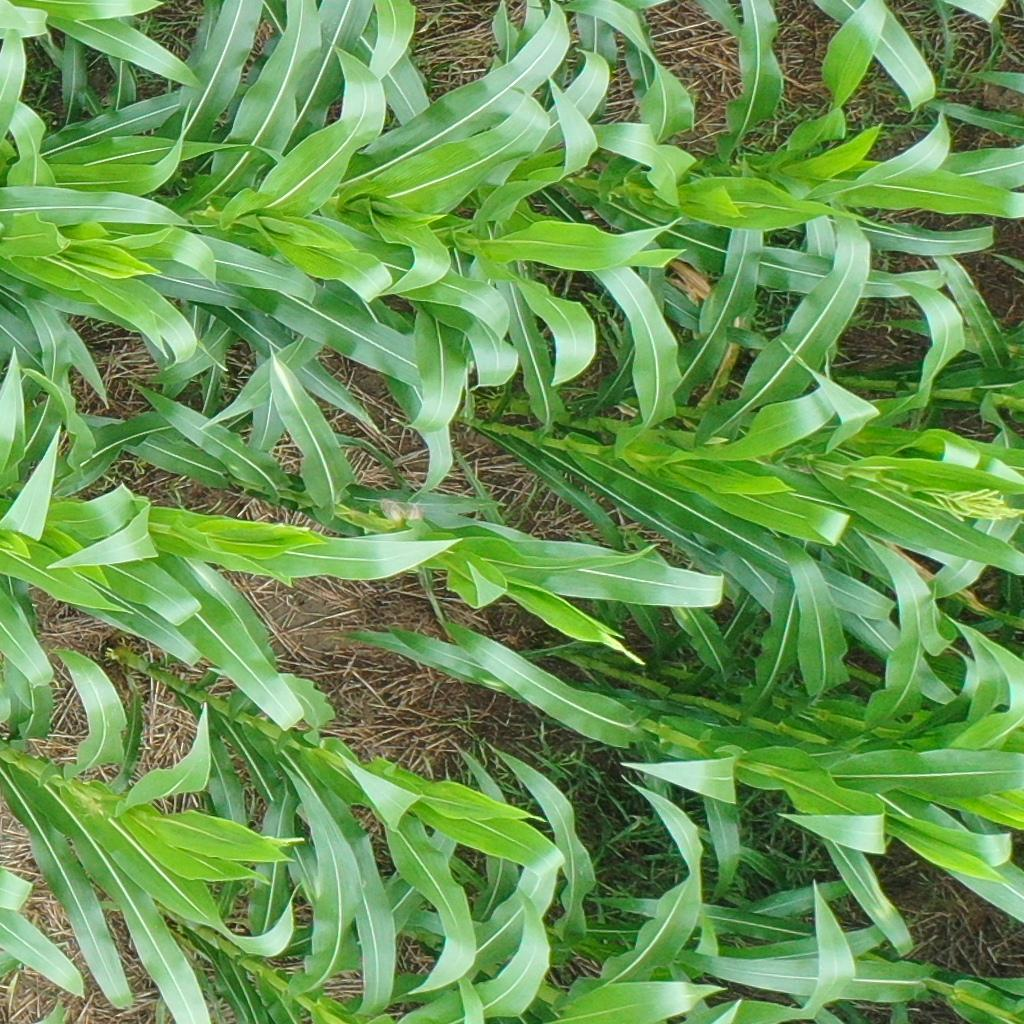Tassel: (929, 484, 1020, 528), (256, 831, 306, 847)
